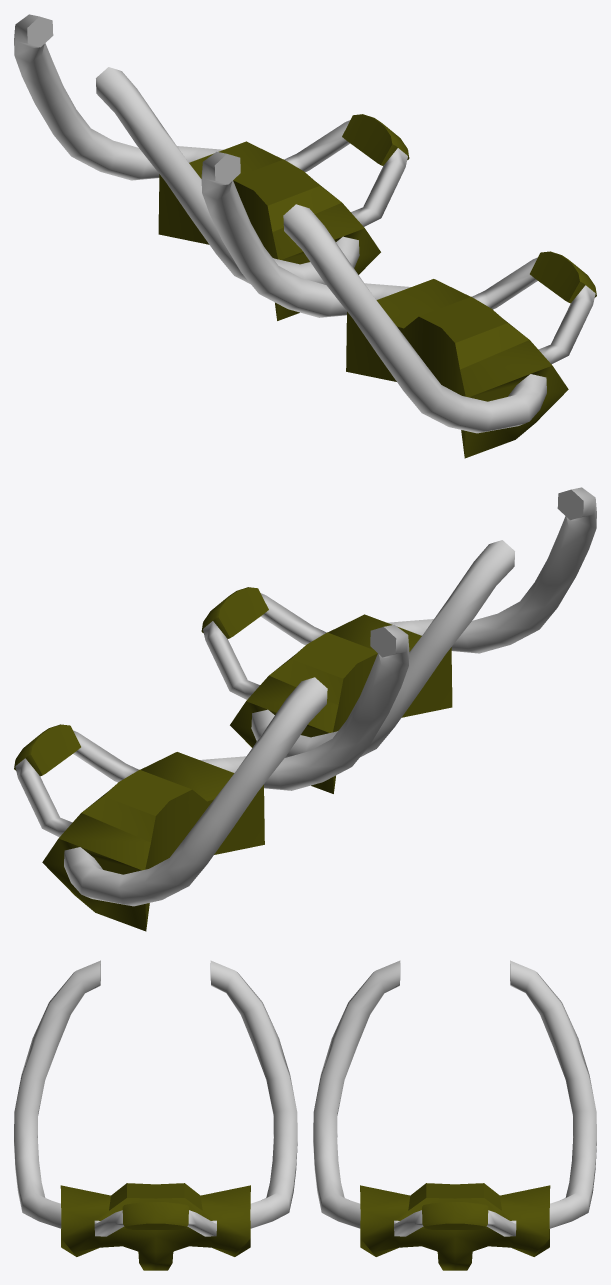
Rendered from restraint.obj.
3 views of the same model, one above another, from view 1: azimuth 30°, elevation 25°; view 2: azimuth 150°, elevation 25°; view 3: azimuth 270°, elevation 25° (orthographic). The views are drawn at different scales.
Size of the model in its own units: 0.8249 by 0.6733 by 1.56.
